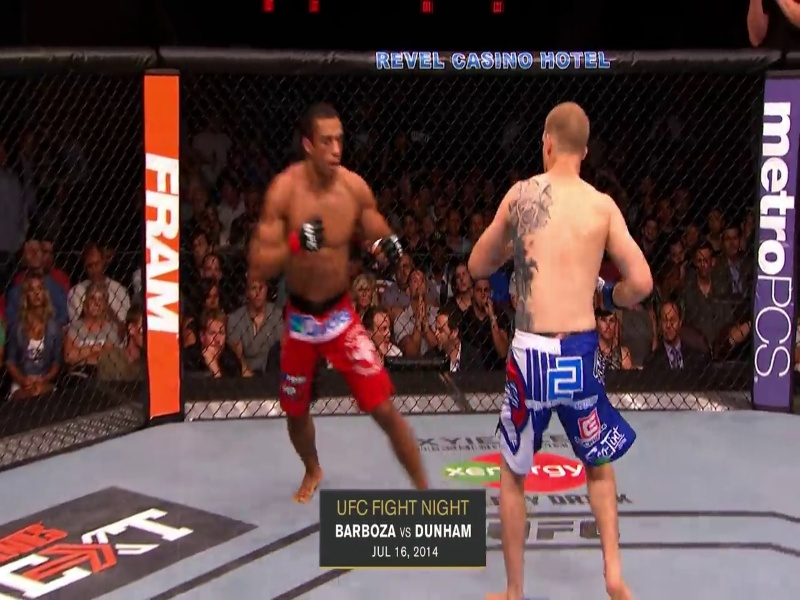fighter: (462, 99, 655, 600), (248, 104, 433, 495)
